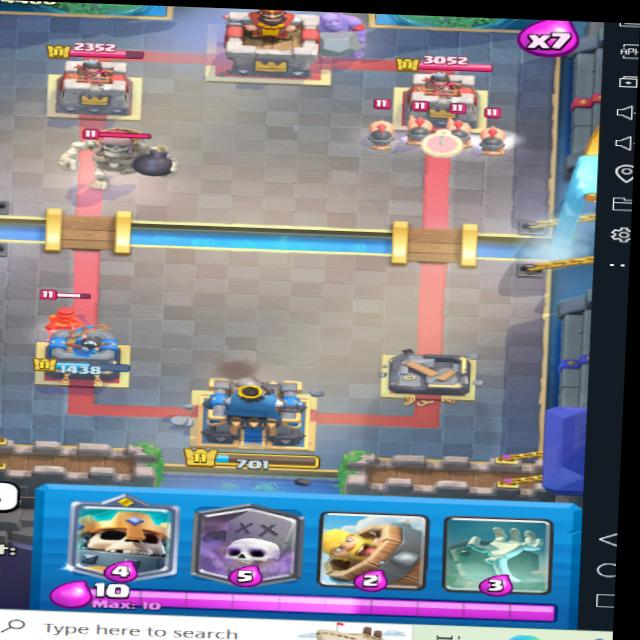bowler: (304, 11, 388, 60)
giant-skeleton: (52, 120, 182, 191)
ram-rider: (31, 279, 106, 343)
royal-hogs: (362, 96, 402, 154), (402, 97, 438, 152), (474, 106, 508, 156), (441, 103, 477, 149)
